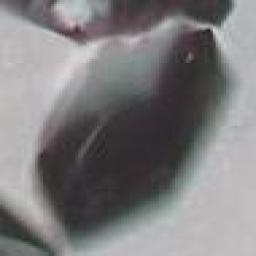crystals: (28, 24, 252, 254)
